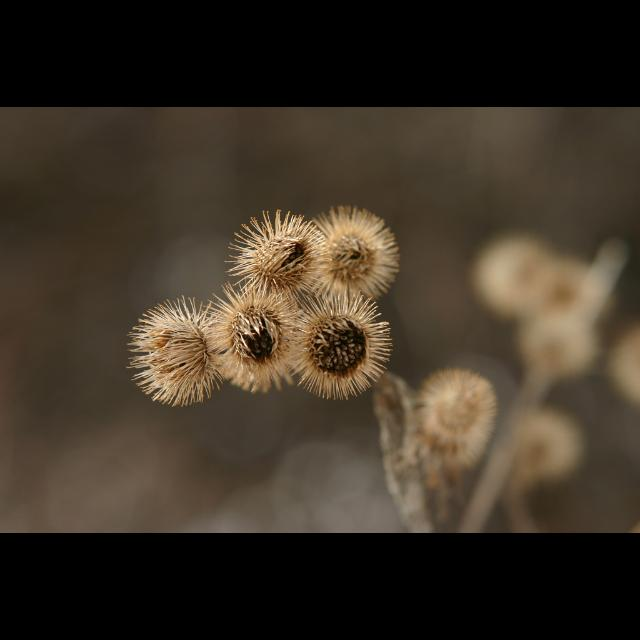Flower: (206, 278, 308, 392), (287, 290, 391, 396), (127, 294, 221, 408), (225, 209, 332, 301), (310, 208, 404, 304)
